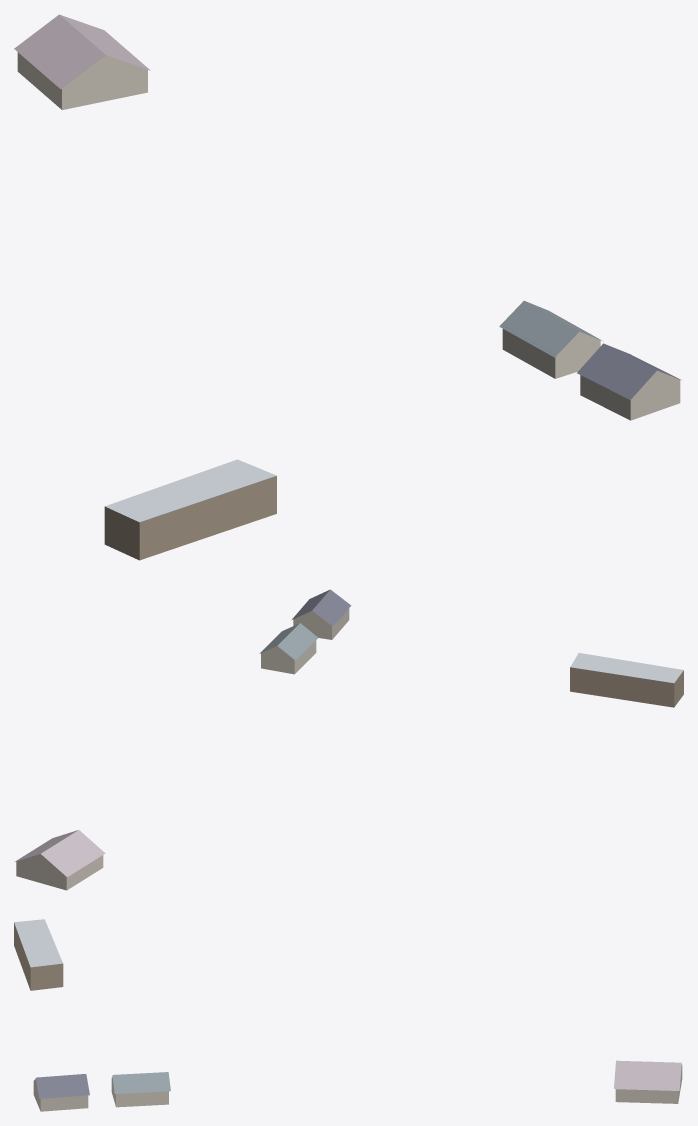
3 views of the same model, one above another, from view 1: azimuth 30°, elevation 25°; view 2: azimuth 150°, elevation 25°; view 3: azimuth 270°, elevation 25° (orthographic). The views are drawn at different scales.
Visible parts, largest first — view 1: tuile; view 2: tuile; view 3: tuile.
Part boxes in pixels (x1,y1,x2,y2): tuile: (14, 14, 680, 560); tuile: (15, 589, 683, 890); tuile: (14, 919, 682, 1111).
Size of the model in its own units: 88.71 by 8.59 by 146.
